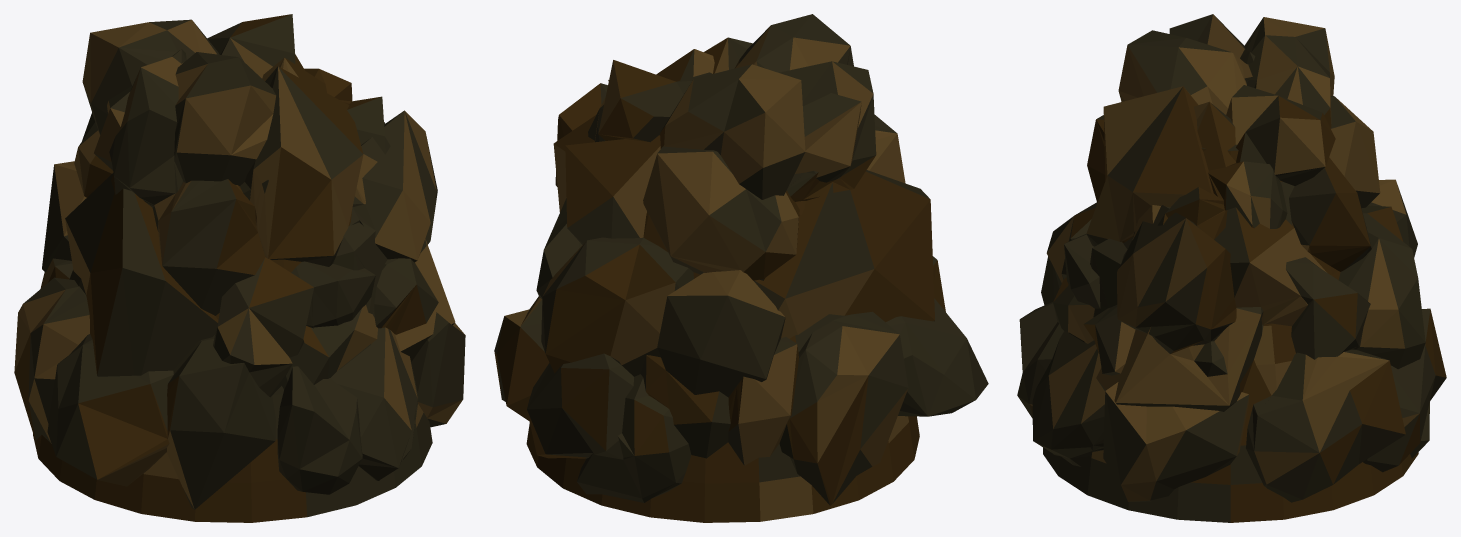
Rendered from lepszy_gejzer_4.fbx.
3 views of the same model, side by side, from view 1: azimuth 30°, elevation 25°; view 2: azimuth 150°, elevation 25°; view 3: azimuth 270°, elevation 25° (orthographic). The views are drawn at different scales.
Parts seen in each view (by area): view 1: Cylinder003; view 2: Cylinder003; view 3: Cylinder003.
Part boxes in pixels (x1,y1,x2,y2): Cylinder003: [14, 14, 465, 522]; Cylinder003: [494, 14, 988, 522]; Cylinder003: [1017, 14, 1446, 522].
Size of the model in its own units: 70.1 by 69.44 by 67.92.
